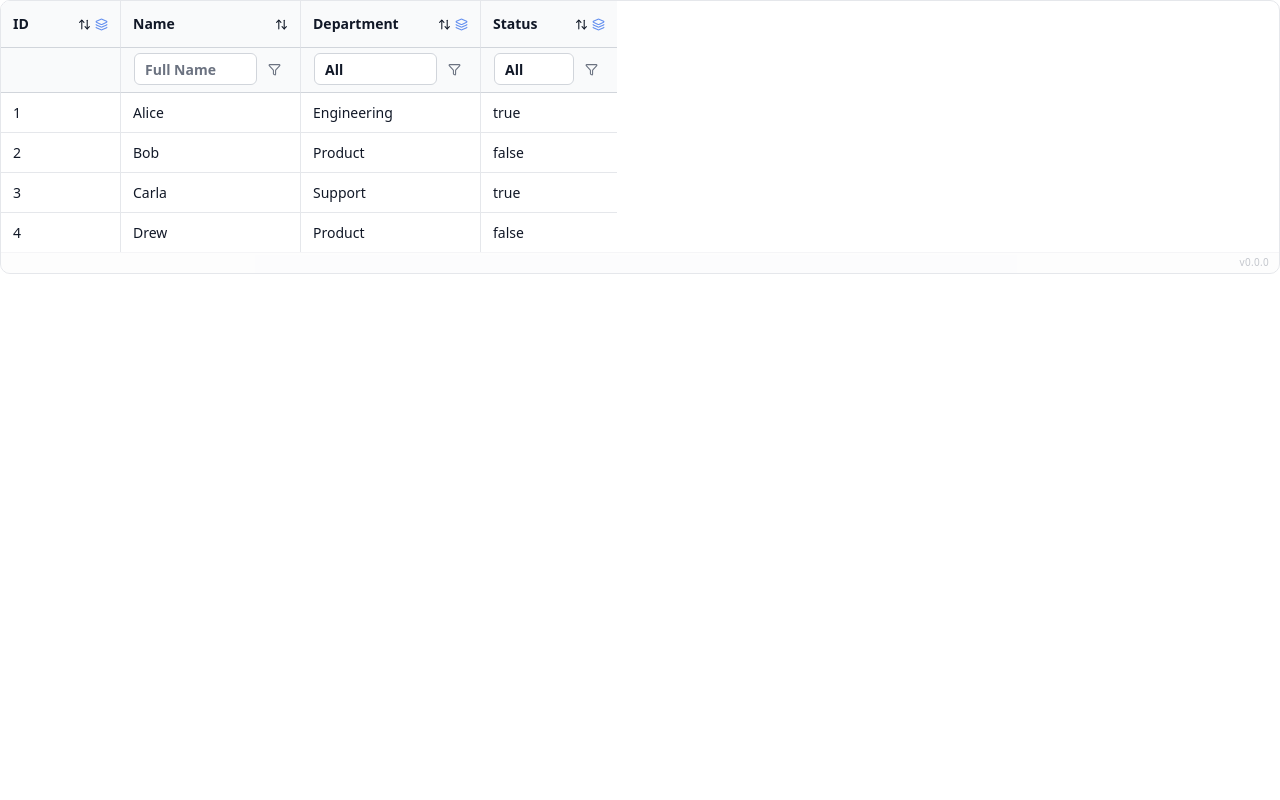
Test: DataTable - column filters › select filter lists available values
Click the button with aria-label "Filter Department" at (376, 69), box [314,53,437,85]
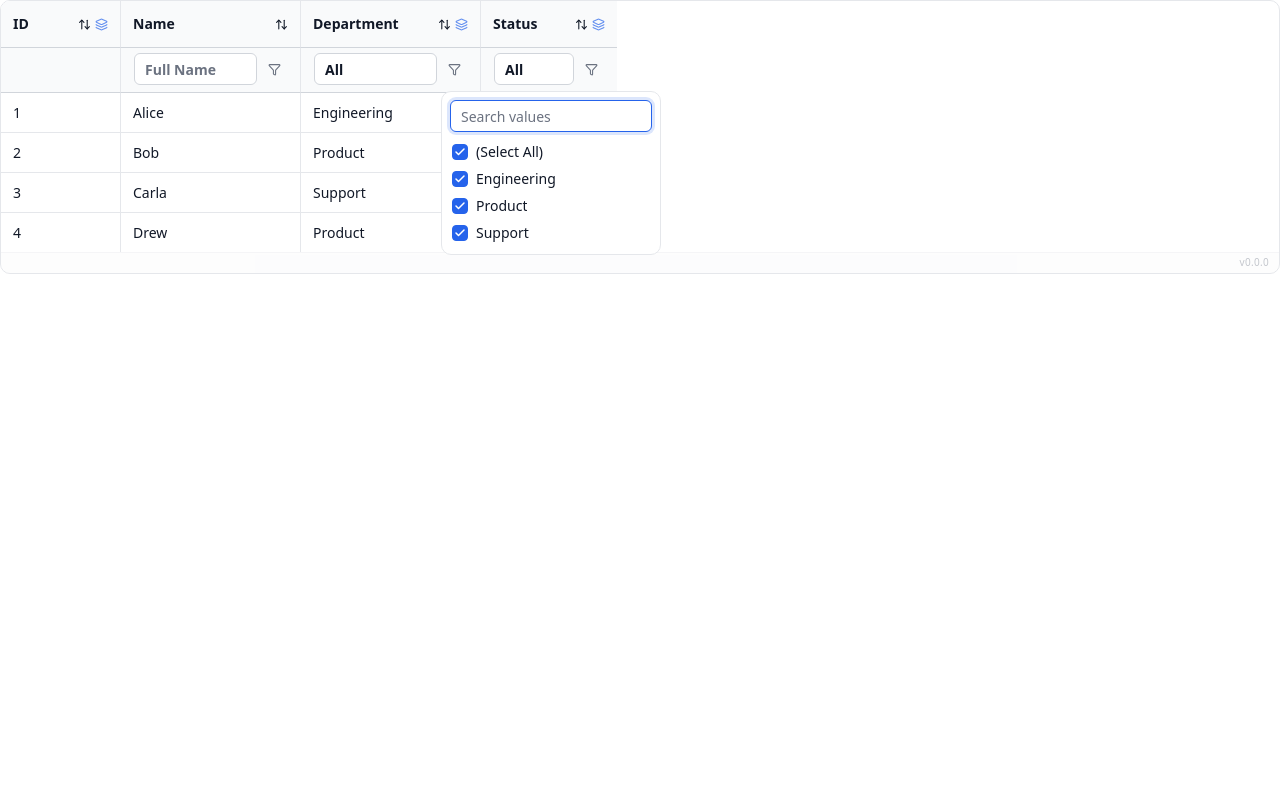
Check: the checkbox named "Engineering" is shown, box [452,170,468,186]
Check: the checkbox named "Product" is shown, box [452,198,468,214]
Check: the checkbox named "Support" is shown, box [452,224,468,240]
